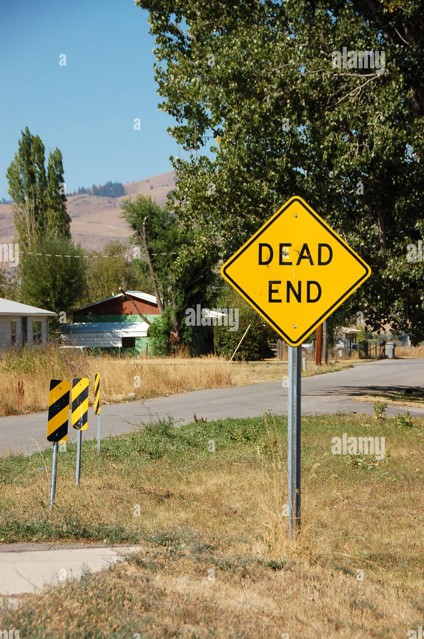Deadend: (219, 193, 373, 348)
